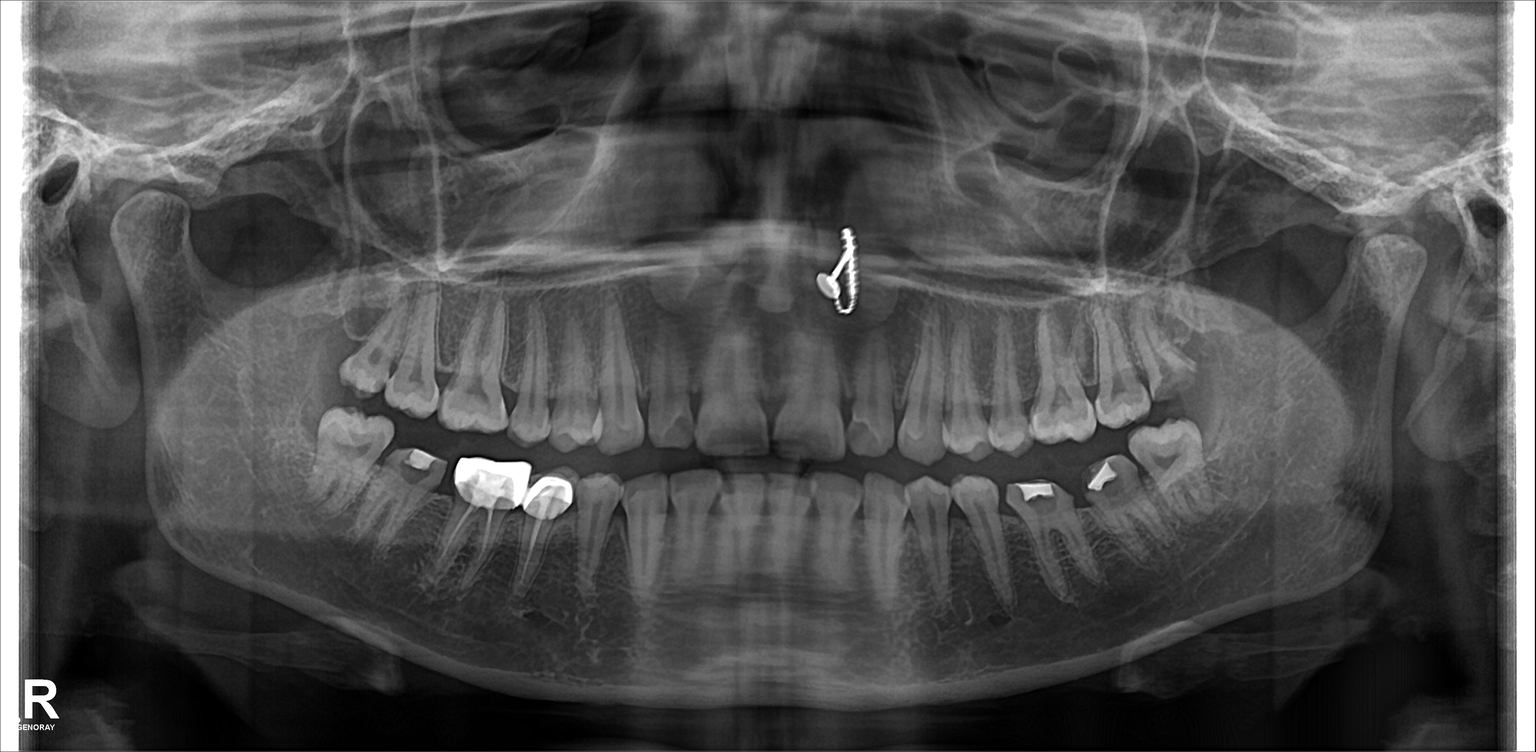Dental Caries: (1149, 367, 1196, 402)
Endodontically Treated Tooth: (512, 471, 574, 609), (454, 465, 508, 603)
Missing Tooth: (320, 300, 356, 395)
